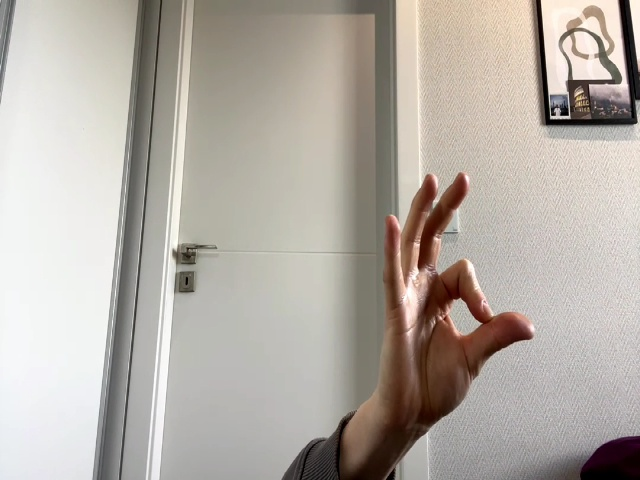S: (380, 173, 536, 404)
